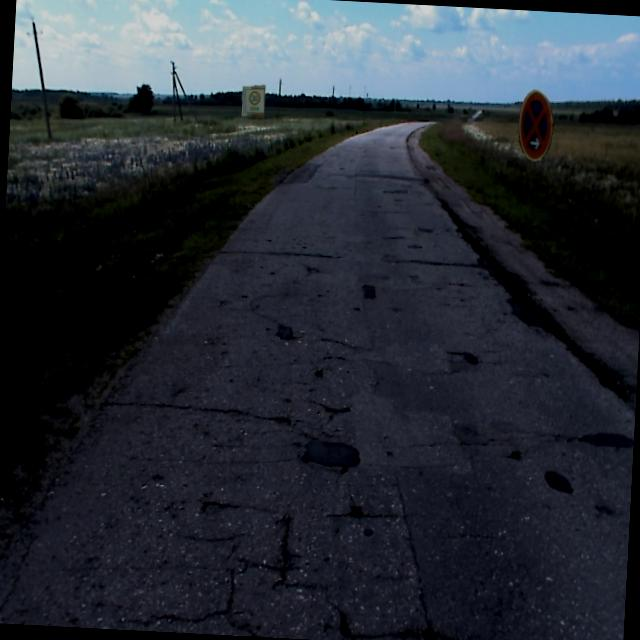road: (0, 122, 634, 640)
